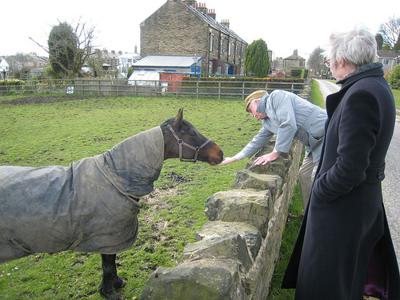person: (218, 87, 334, 176)
